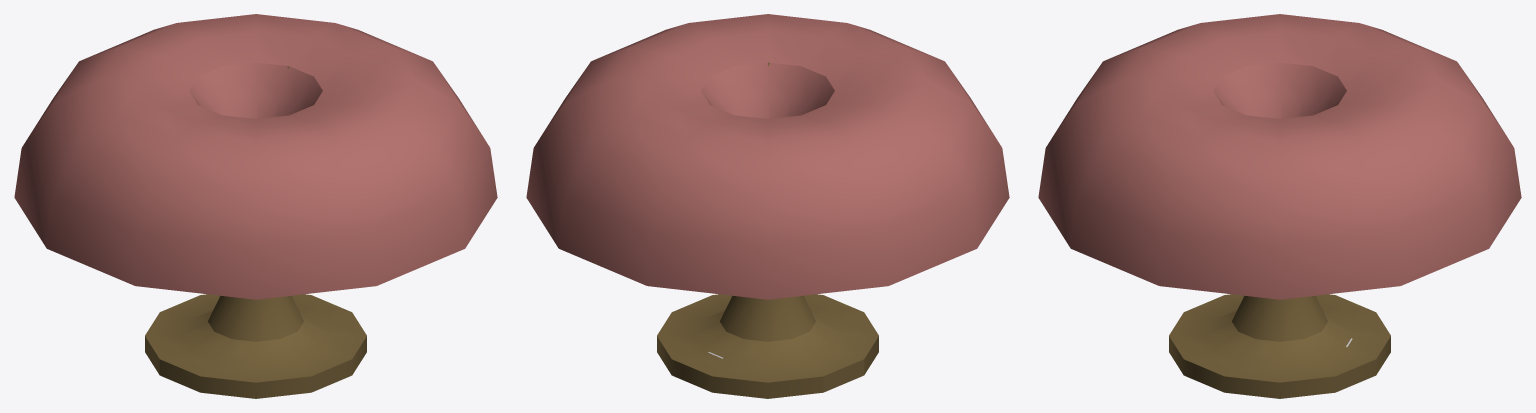
Rendered from LamparaRoja.fbx.
The picture shows the model from 3 angles, left to right: view 1: azimuth 30°, elevation 25°; view 2: azimuth 150°, elevation 25°; view 3: azimuth 270°, elevation 25°; orthographic projection.
Visible parts, largest first — view 1: Plano; view 2: Plano; view 3: Plano.
Boxes of the visible parts, bbox=[...] form: Plano: bbox=[14, 14, 497, 398]; Plano: bbox=[526, 14, 1009, 398]; Plano: bbox=[1038, 14, 1521, 398].
Size of the model in its own units: 34.66 by 21.61 by 34.66.
